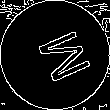M_SW: (23, 24, 87, 86)
